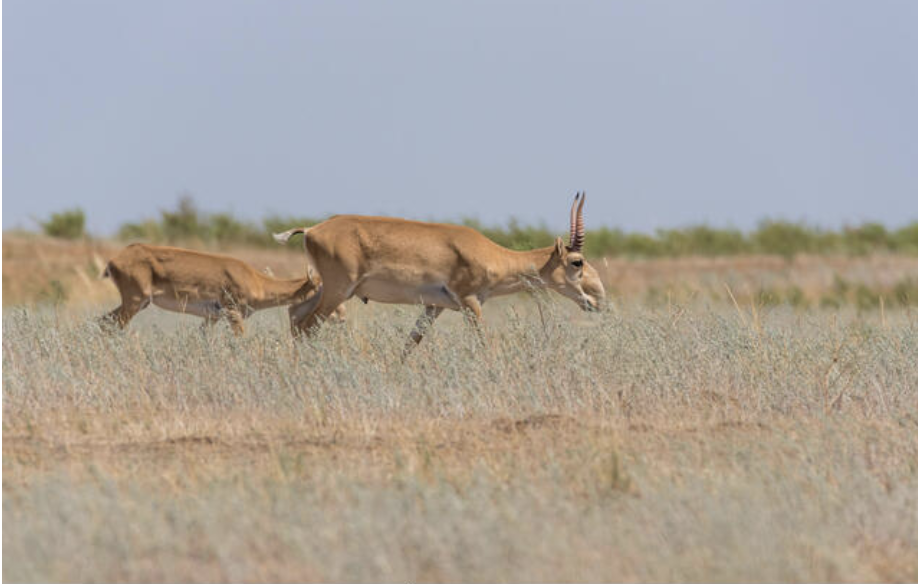saiga: (267, 182, 625, 356)
